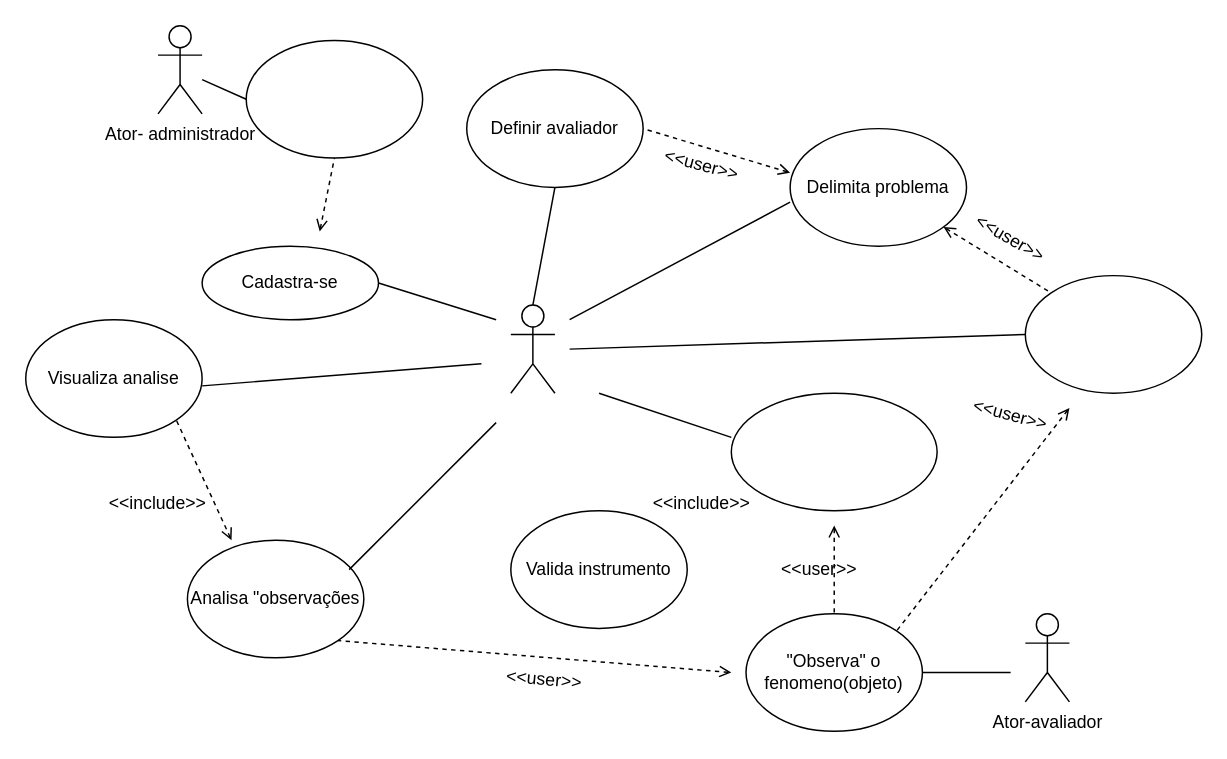
The diagram is 1227 pixels wide and 759 high, and some of its shapes have lost their labels. Here are the shapes that lost their labels. From the top down, the centre of each, then its label:
At [334,98]: "credencial usuários".
At [532,348]: "Ator-pesquisador".
At [1113,333]: "Seleciona aborsagem".
At [833,451]: "Elabora Instrumentos".
